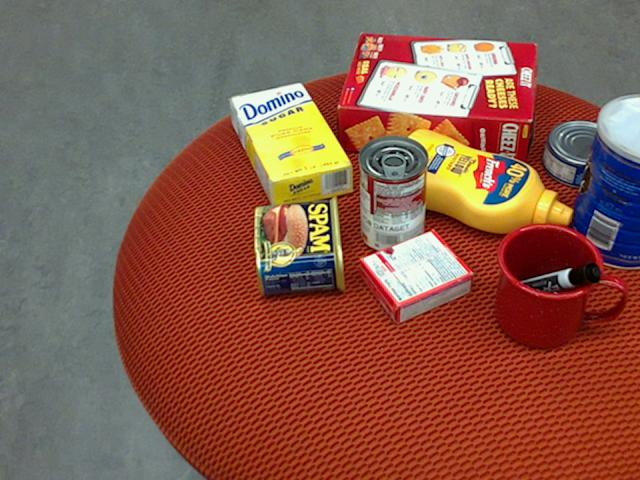cracker_box: (336, 31, 534, 162)
gelatin_box: (356, 231, 473, 325)
large_marker: (504, 260, 602, 301)
master_chef_can: (566, 94, 639, 269)
mug: (494, 222, 623, 348)
mustard_bottle: (383, 128, 572, 233)
potted_meat_can: (253, 194, 346, 295)
sugar_box: (228, 81, 353, 211)
tomato_soup_can: (357, 133, 427, 253)
tuna_fish_can: (541, 118, 623, 187)
